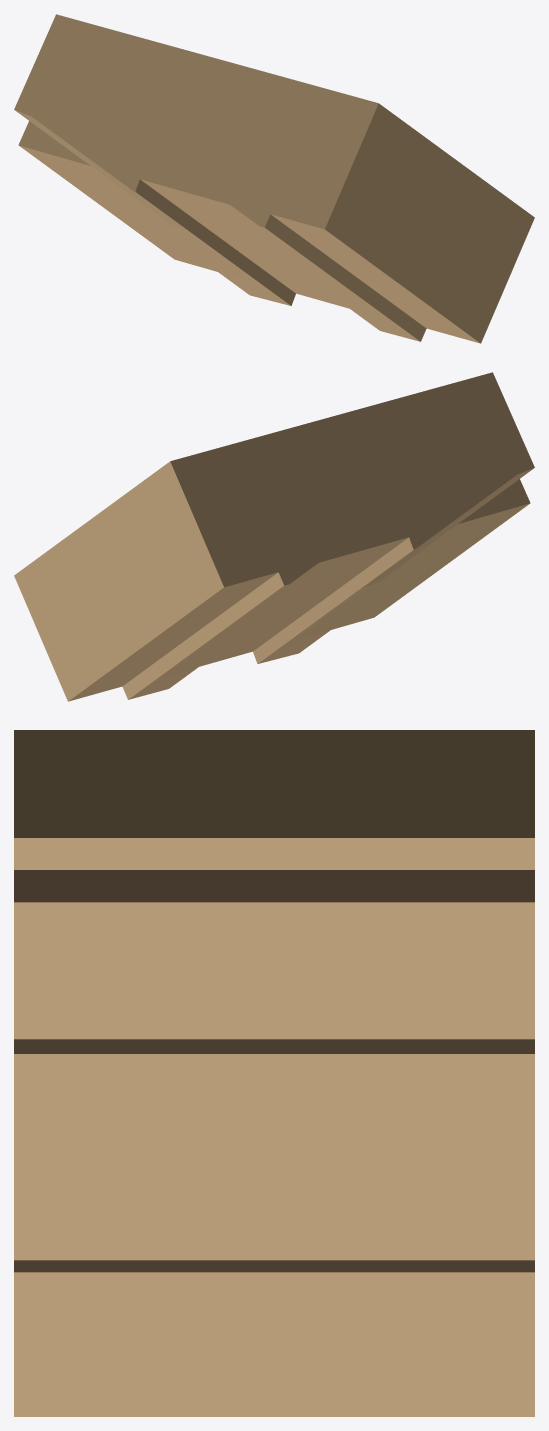
3 views of the same model, one above another, from view 1: azimuth 30°, elevation 25°; view 2: azimuth 150°, elevation 25°; view 3: azimuth 270°, elevation 25° (orthographic). The views are drawn at different scales.
Visible parts, largest first — view 1: 0_1_0_2_0_0_0_2_0; view 2: 0_1_0_2_0_0_0_2_0; view 3: 0_1_0_2_0_0_0_2_0.
Boxes of the visible parts, x1,y1,x2,y2 form: 0_1_0_2_0_0_0_2_0: (14, 14, 534, 343); 0_1_0_2_0_0_0_2_0: (14, 372, 534, 701); 0_1_0_2_0_0_0_2_0: (14, 730, 534, 1416).
Bounding box in the file's own units: 28.32 × 20.82 × 21.
